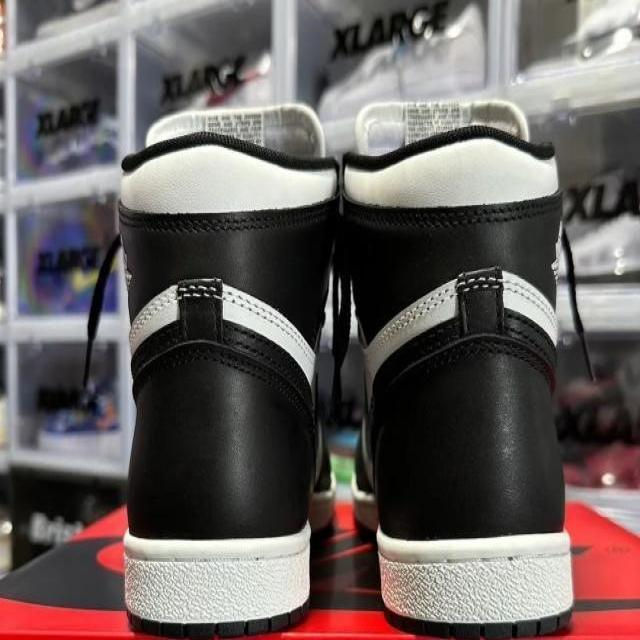J1_MateComp: (338, 99, 574, 638), (114, 104, 341, 636)
J1_ShoeLogo: (83, 95, 581, 638), (353, 97, 530, 156), (143, 102, 326, 159), (327, 2, 448, 61), (156, 48, 271, 110), (29, 94, 116, 171)
J1_StitchPattern: (122, 264, 562, 400), (125, 272, 319, 408), (364, 263, 561, 385), (121, 546, 313, 634), (377, 550, 573, 626), (221, 280, 317, 382), (123, 598, 311, 637), (368, 278, 458, 354), (454, 263, 505, 337), (126, 282, 180, 349), (174, 275, 224, 345), (174, 275, 223, 302)
